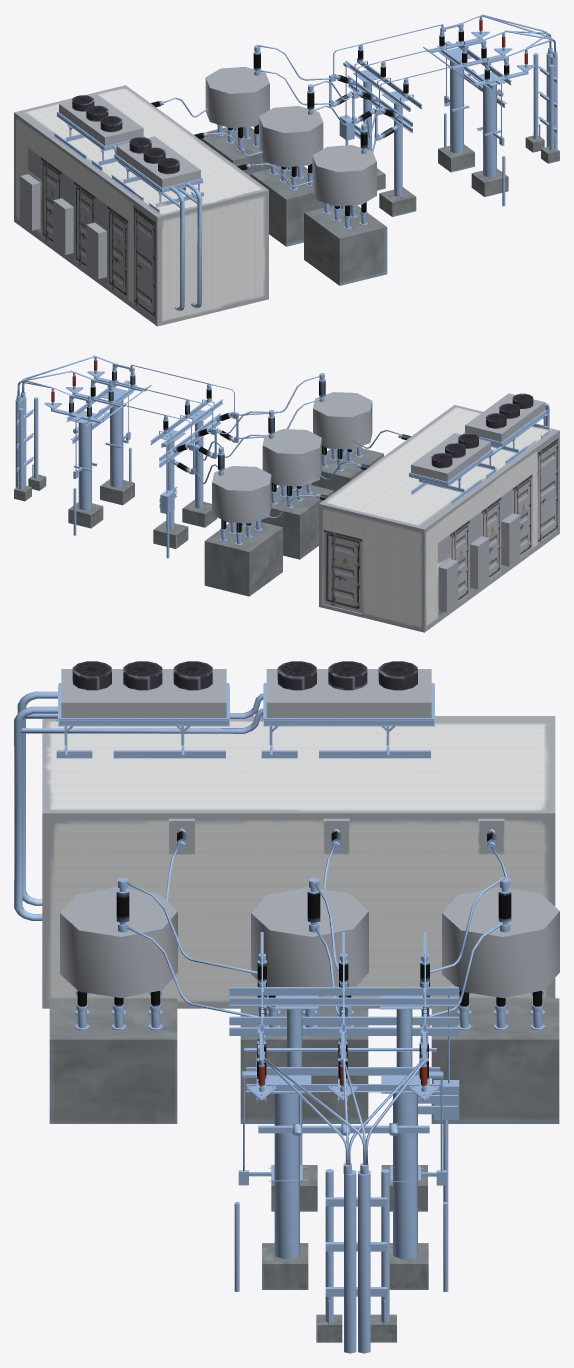
3 renders of one model, top to bottom at view 1: azimuth 30°, elevation 25°; view 2: azimuth 150°, elevation 25°; view 3: azimuth 270°, elevation 25°, orthographic. The views are drawn at different scales.
Parts seen in each view (by area): view 1: Equipment; view 2: Equipment; view 3: Equipment.
Boxes of the visible parts, <box> form: Equipment: <box>14,14,559,326</box>; Equipment: <box>14,355,559,632</box>; Equipment: <box>14,661,559,1353</box>.
Size of the model in its own units: 14.04 by 4.45 by 7.5.
1 material, 1 textured.
